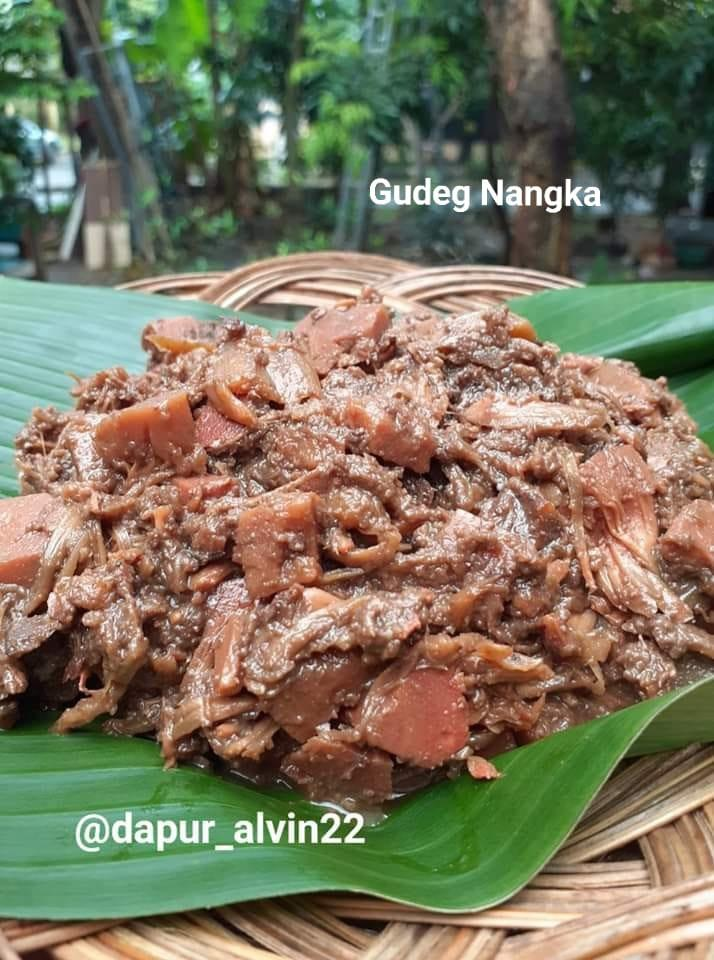gudeg: (17, 292, 714, 801)
